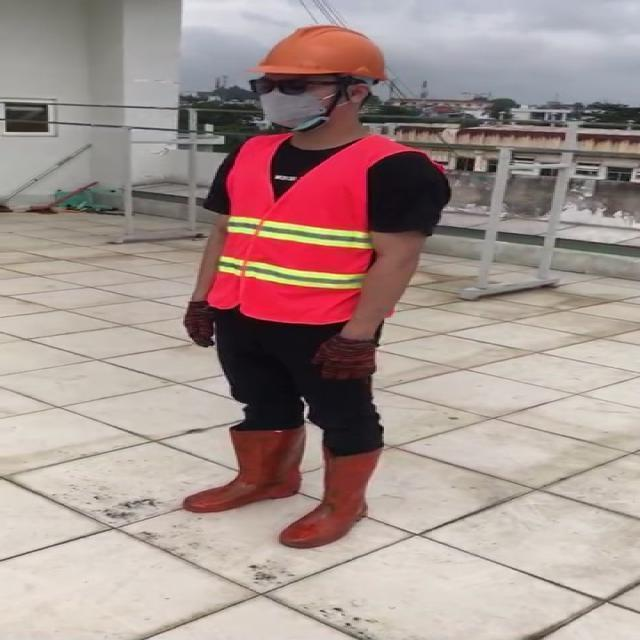helmet: (248, 22, 396, 80)
safety_vest: (214, 136, 388, 319)
